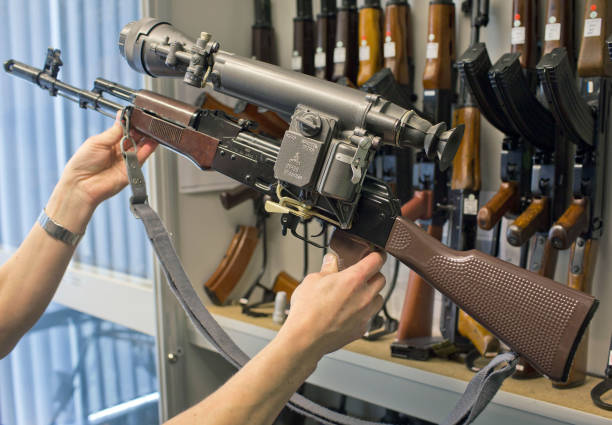rifle: (1, 22, 590, 385), (546, 5, 608, 312)
